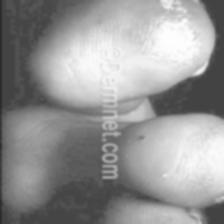Unclassified: (161, 128, 224, 198), (147, 9, 205, 76)
